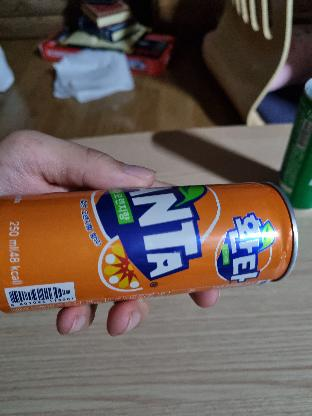Can: (0, 173, 300, 305)
